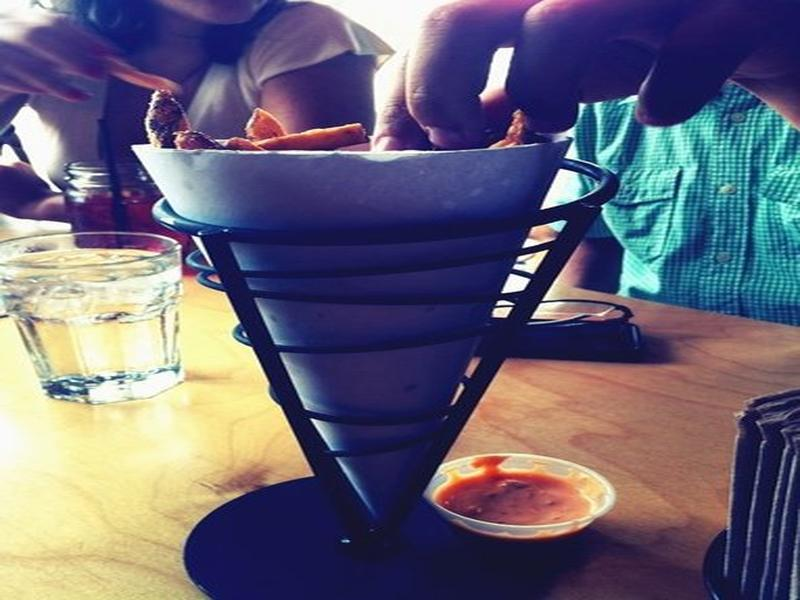french_fries: (161, 61, 641, 415)
